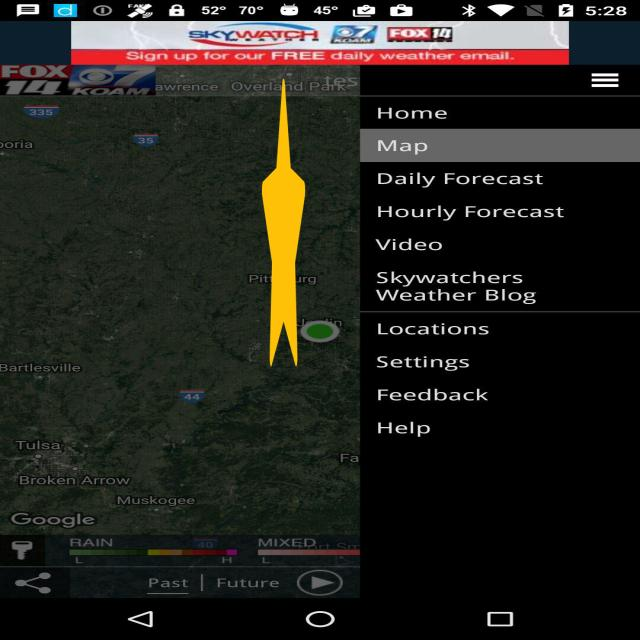forced continuity: (262, 78, 305, 367)
